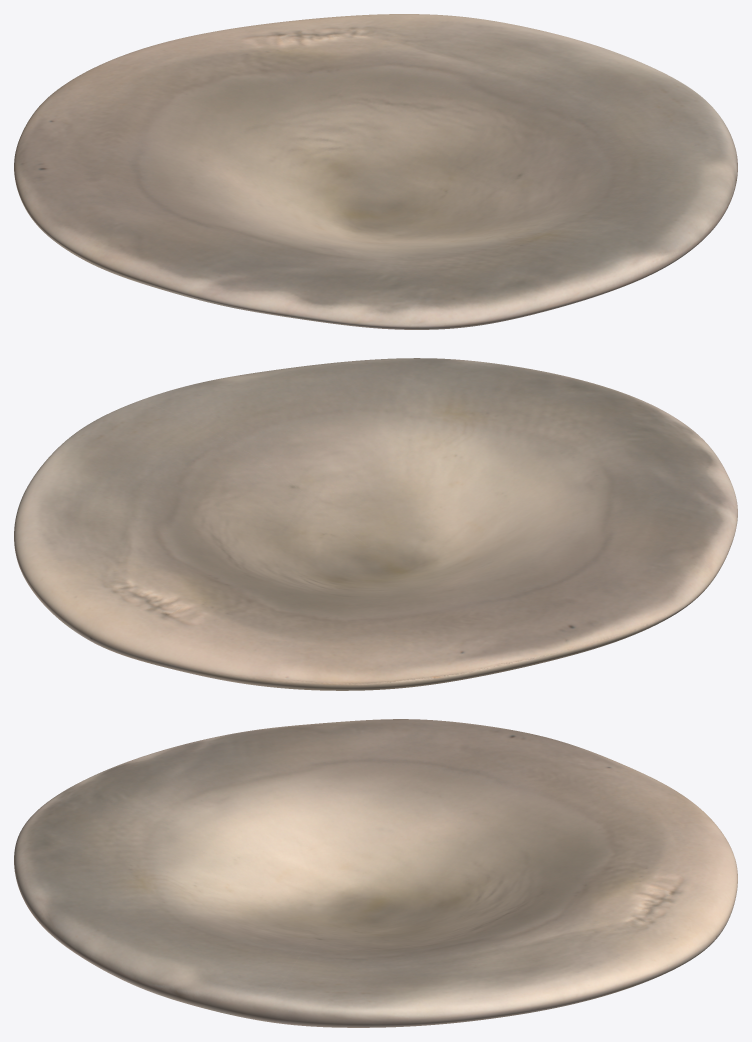
File: 202_modify.fbx
3 views of the same model, one above another, from view 1: azimuth 30°, elevation 25°; view 2: azimuth 150°, elevation 25°; view 3: azimuth 270°, elevation 25° (orthographic). The views are drawn at different scales.
Visible parts, largest first — view 1: 202; view 2: 202; view 3: 202.
Boxes of the visible parts, left/top/right/bottom form: 202: left=14, top=14, right=737, bottom=329; 202: left=14, top=358, right=737, bottom=690; 202: left=14, top=719, right=737, bottom=1027.
Bounding box in the file's own units: 4.7 × 4.86 × 0.6171.
